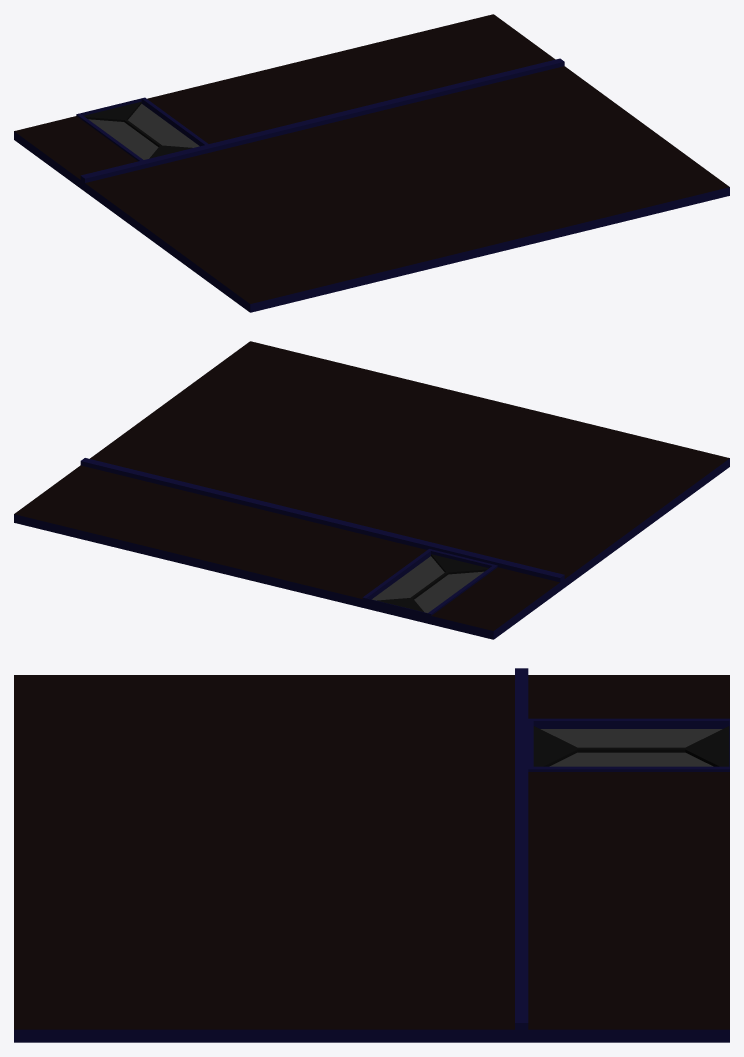
The model's file is Wall A_Hangar.fbx.
3 views of the same model, one above another, from view 1: azimuth 30°, elevation 25°; view 2: azimuth 150°, elevation 25°; view 3: azimuth 270°, elevation 25° (orthographic). The views are drawn at different scales.
Parts seen in each view (by area): view 1: Wall A; view 2: Wall A; view 3: Wall A.
Part boxes in pixels (x1,y1,x2,y2): Wall A: [14, 14, 729, 312]; Wall A: [14, 341, 729, 639]; Wall A: [14, 668, 729, 1042].
Bounding box in the file's own units: 2356 × 61.29 × 2010.
